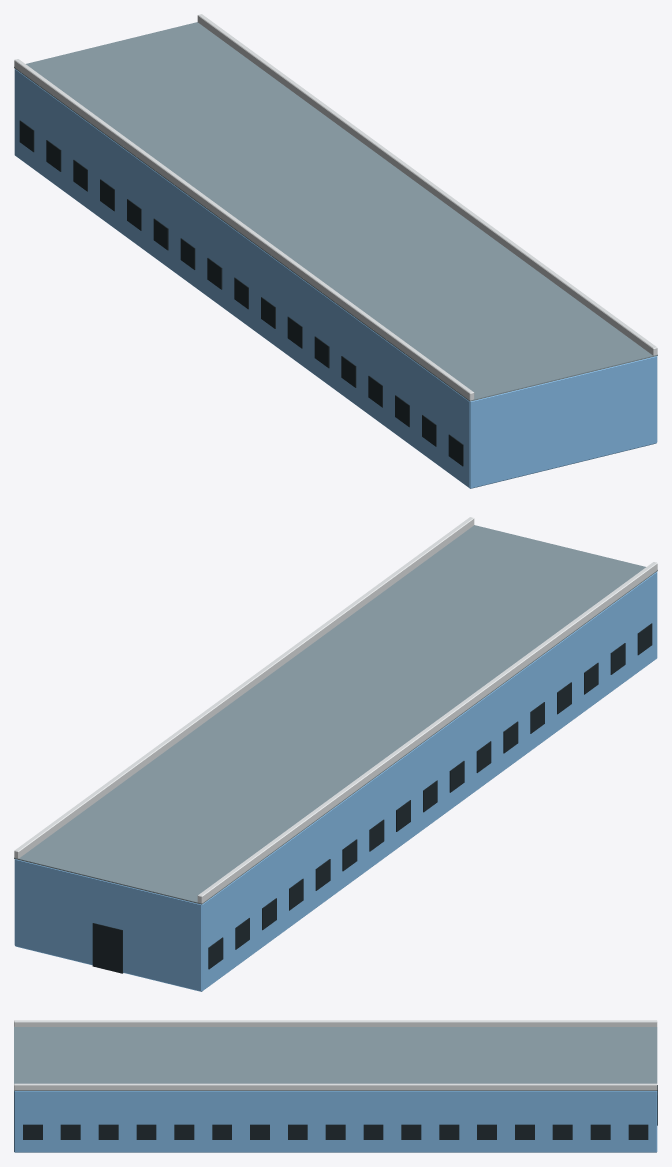
File: predio_barranco.glb
The picture shows the model from 3 angles, top to bottom: view 1: azimuth 30°, elevation 25°; view 2: azimuth 150°, elevation 25°; view 3: azimuth 270°, elevation 25°; orthographic projection. The views are drawn at different scales.
Parts seen in each view (by area): view 1: predio_barranco; view 2: predio_barranco; view 3: predio_barranco.
Boxes of the visible parts, x1,y1,x2,y2 form: predio_barranco: (14, 14, 657, 488); predio_barranco: (14, 517, 657, 991); predio_barranco: (14, 1020, 657, 1152).
Size of the model in its own units: 10.08 by 4.9 by 42.04.
